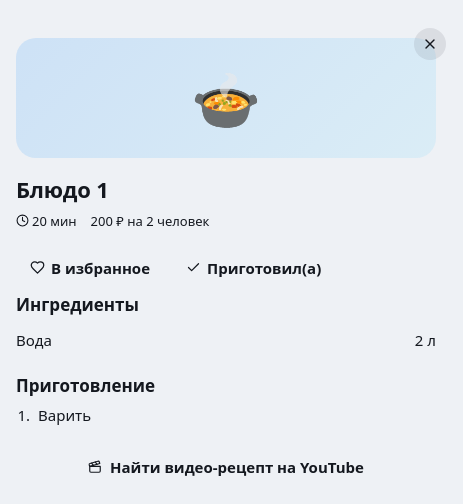
Test: окно рецепта: избранное и «приготовил» › «Приготовил(а)» отмечает на сегодня, показывает счётчик, повторное нажатие снимает
Click the button "Приготовил(а)" at (254, 268), box [172, 248, 335, 288]
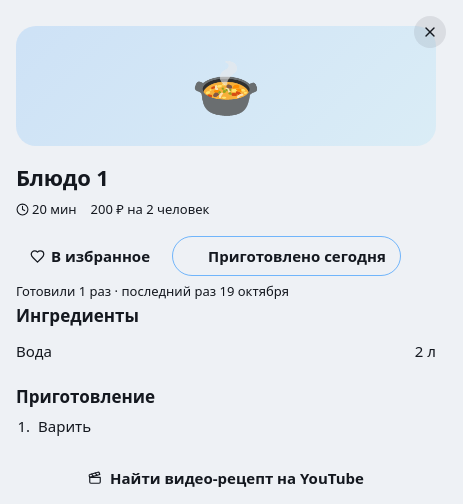
Check: the button "Приготовлено сегодня" is shown
Check: the text "Готовили 1 раз · последний раз 19 октября" is shown, box [16, 282, 289, 300]
Click the button "Приготовлено сегодня" at (286, 256), box [172, 236, 401, 276]
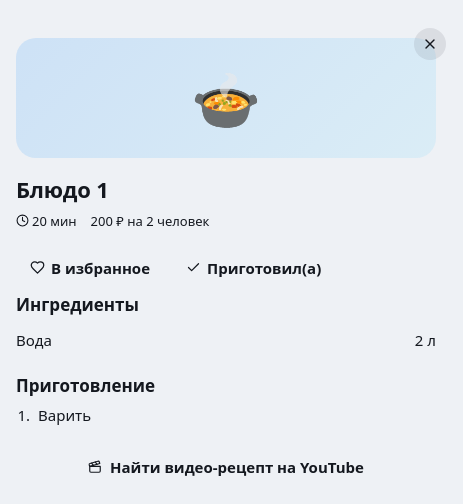
Check: the text "Готовили" is gone
